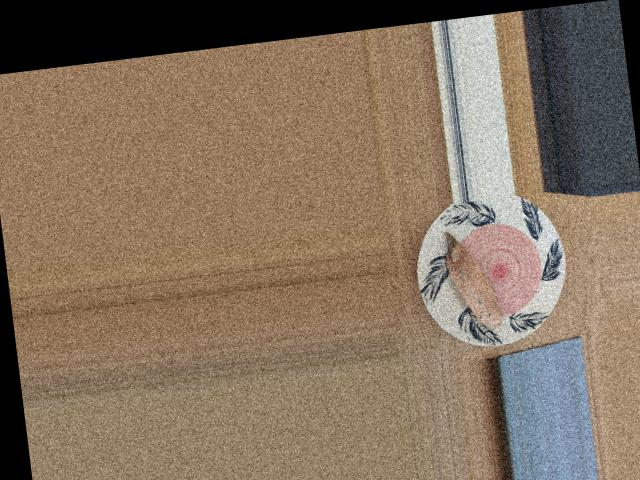sweet_potato: (443, 236, 505, 327)
